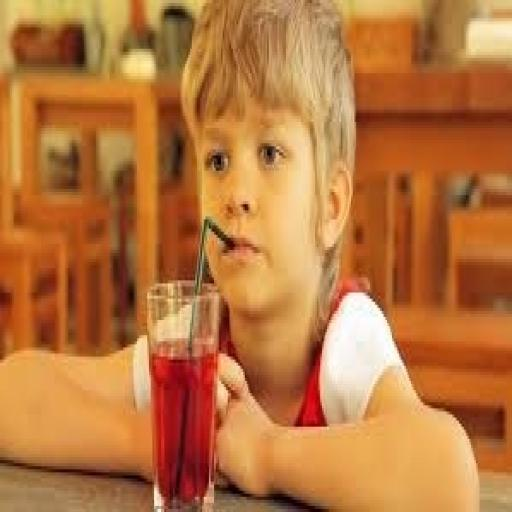drinking: (145, 277, 221, 509)
